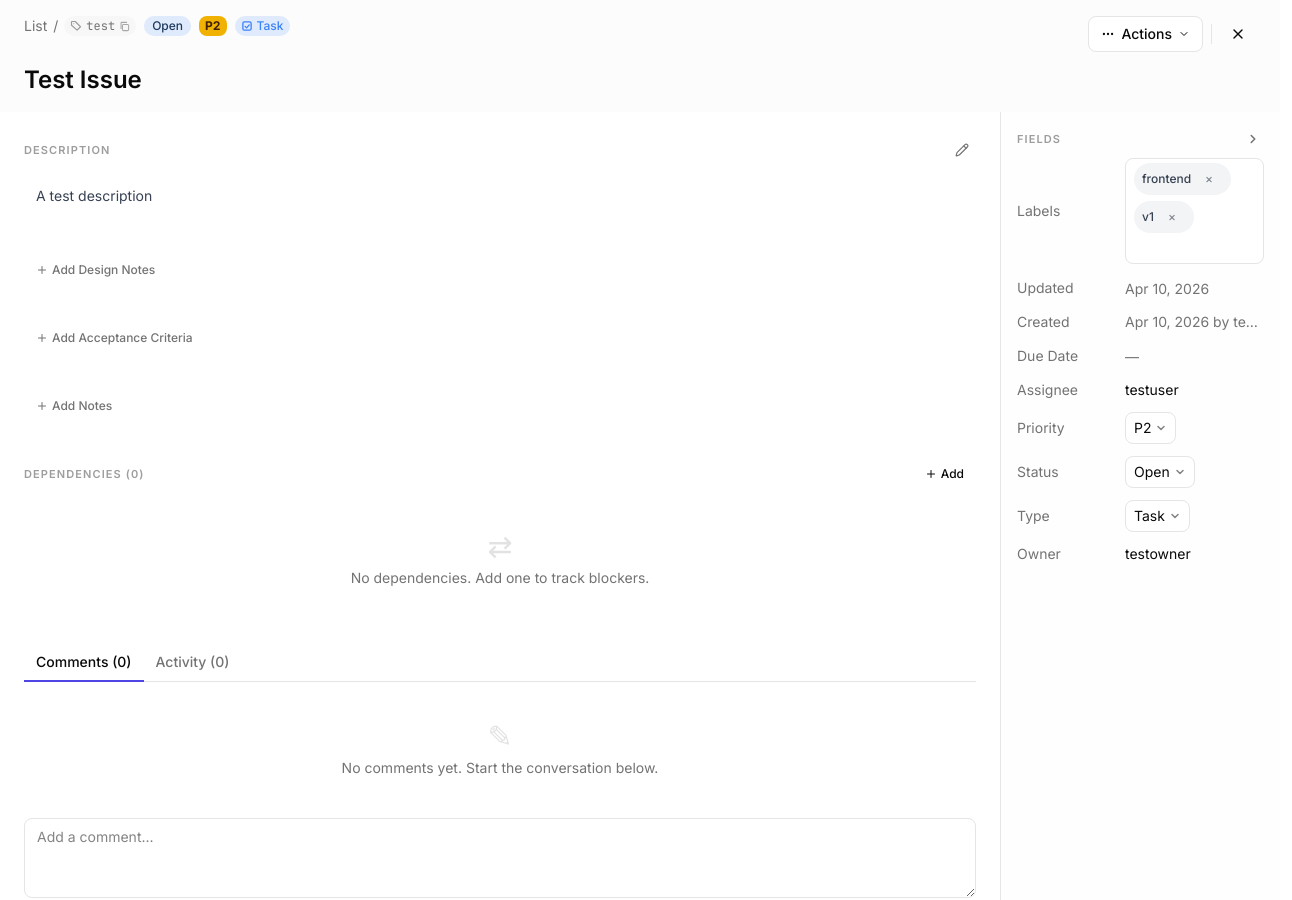
Test: DetailView › renders issue detail with all fields
Expected: the link "test" is shown, [86,18,115,34]
Expected: the heading "Test Issue" is shown, [24,65,142,94]
Click the button "Actions": click(1146, 34) [1088,16,1203,52]
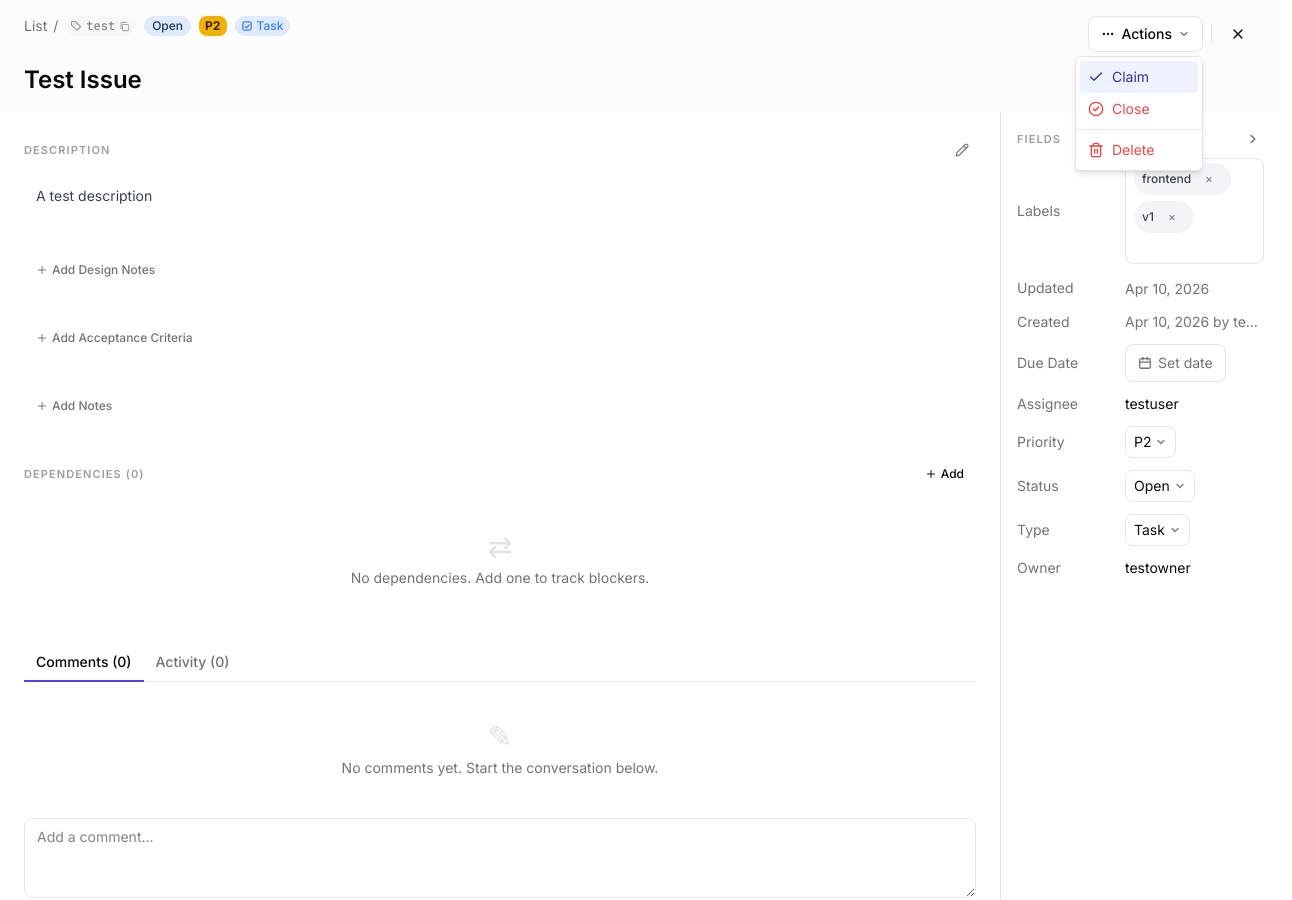
Now the menu item "Claim" is shown, box [1080,61,1198,93]
Now the menu item "Close" is shown, box [1088,100,1150,117]
Now the menu item "Delete" is shown, box [1088,141,1154,158]
